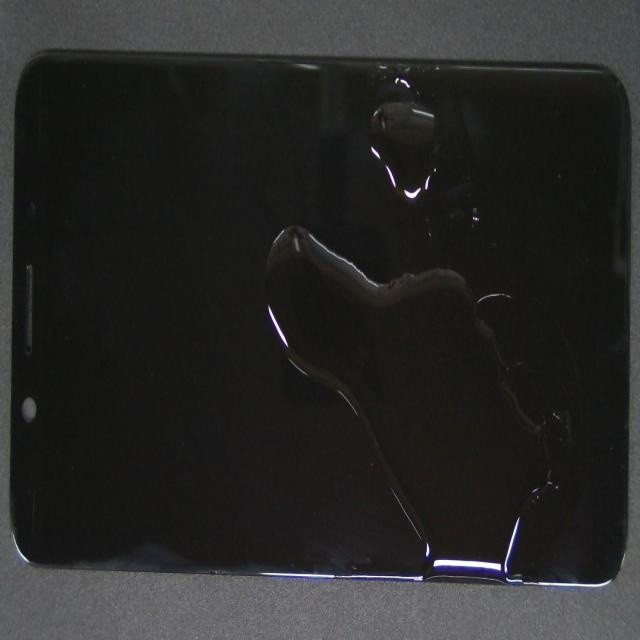oil: (106, 160, 458, 559), (194, 123, 637, 280)
